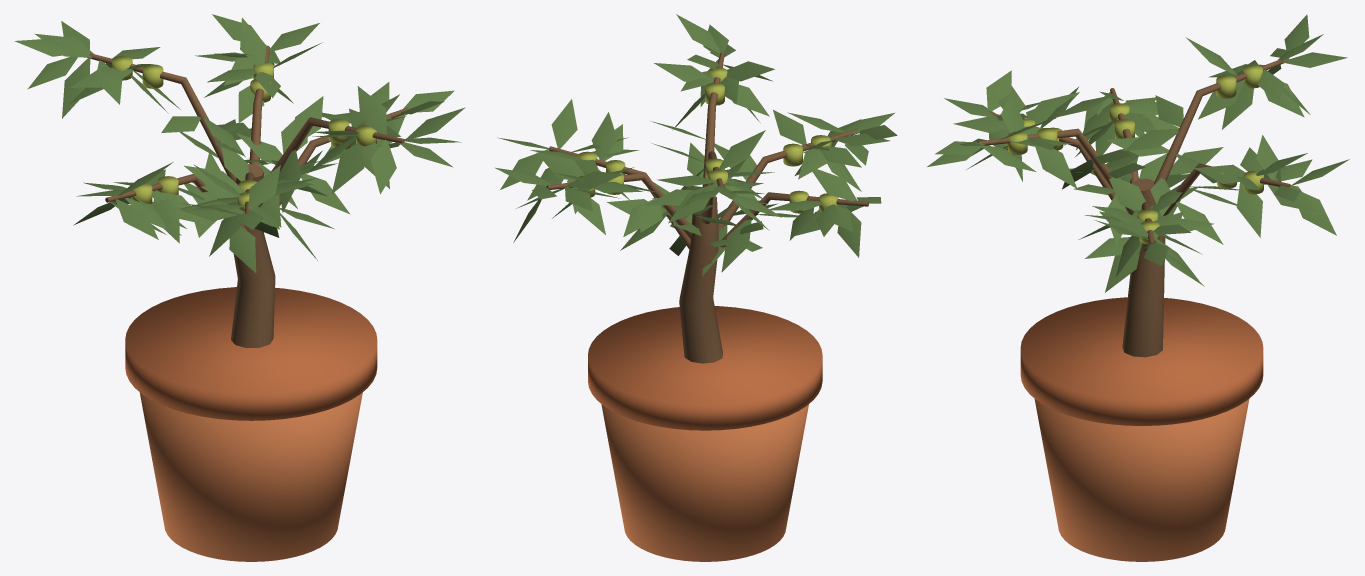
File: street_planter_round.glb
The picture shows the model from 3 angles, left to right: view 1: azimuth 30°, elevation 25°; view 2: azimuth 150°, elevation 25°; view 3: azimuth 270°, elevation 25°; orthographic projection. The views are drawn at different scales.
Visible parts, largest first — view 1: Pot, PotRim, Trunk, Branch2, Branch5, OLeaf114, OLeaf110, OLeaf115, OLeaf60, OLeaf28, OLeaf57, OLeaf96 (+15 smaller); view 2: Pot, PotRim, Trunk, Branch4, Branch5, OLeaf16, Branch1, OLeaf77, OLeaf65, OLeaf29, OLeaf7, Branch3 (+13 smaller); view 3: Pot, PotRim, Trunk, Branch2, Branch5, OLeaf107, OLeaf26, OLeaf102, OLeaf44, OLeaf99, OLeaf38, OLeaf0 (+11 smaller).
Boxes of the visible parts, box(x1,y1,x2,y2) form: Pot: box(139, 392, 362, 561); PotRim: box(125, 287, 377, 420); Trunk: box(231, 164, 275, 348); Branch2: box(87, 53, 236, 181); Branch5: box(259, 117, 404, 206); OLeaf114: box(357, 86, 386, 134); OLeaf110: box(331, 143, 364, 193); OLeaf115: box(370, 139, 396, 194); OLeaf60: box(229, 226, 256, 272); OLeaf28: box(240, 17, 266, 65); OLeaf57: box(62, 58, 90, 118); OLeaf96: box(248, 165, 280, 210); Pot: box(601, 404, 808, 561); PotRim: box(588, 306, 822, 430); Trunk: box(679, 196, 722, 363); Branch4: box(718, 129, 857, 231); Branch5: box(702, 52, 724, 187); OLeaf16: box(551, 99, 577, 148); Branch1: box(546, 172, 692, 239); OLeaf77: box(808, 166, 857, 201); OLeaf65: box(721, 219, 751, 272); OLeaf29: box(536, 152, 585, 180); OLeaf7: box(591, 112, 617, 160); Branch3: box(720, 192, 868, 247); Pot: box(1034, 398, 1249, 561); PotRim: box(1020, 297, 1263, 425); Trunk: box(1122, 178, 1165, 357); Branch2: box(1154, 58, 1289, 184); Branch5: box(977, 128, 1134, 214); OLeaf107: box(1035, 146, 1077, 188); OLeaf26: box(1236, 181, 1262, 237); OLeaf102: box(1109, 177, 1145, 210); OLeaf44: box(1122, 129, 1178, 150); OLeaf99: box(986, 70, 1011, 110); OLeaf38: box(1290, 187, 1336, 235); OLeaf0: box(1105, 242, 1141, 292).
Bounding box in the file's own units: 1.03 × 1.18 × 1.01.
